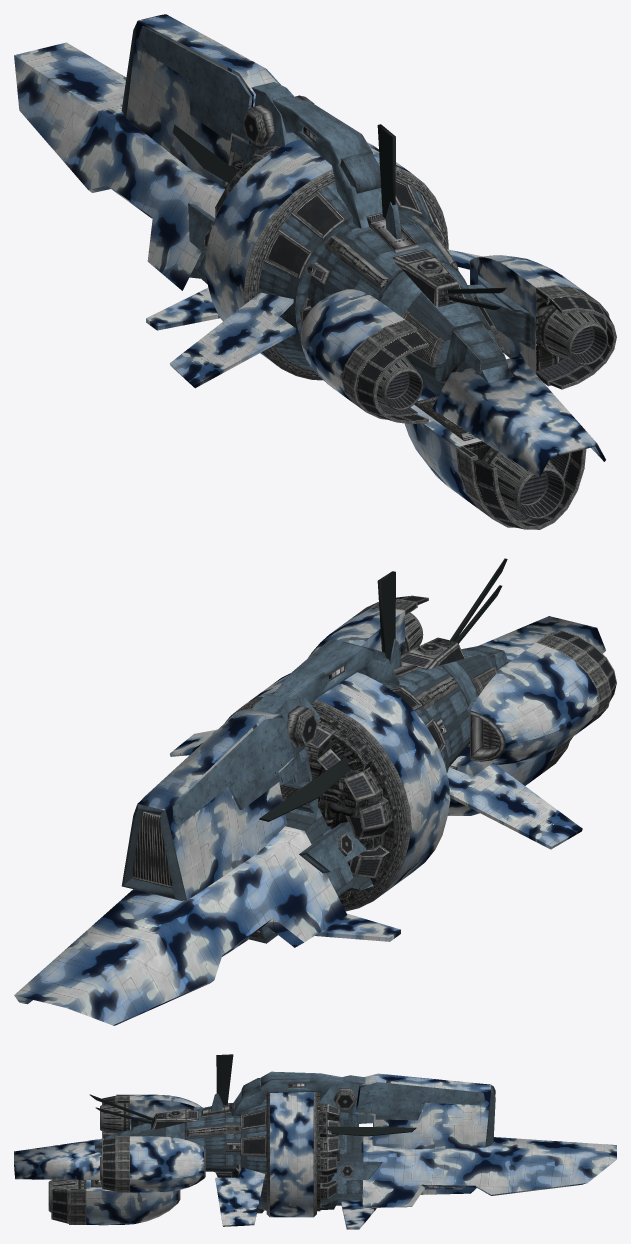
File: CX-4SV Trident.fbx
3 renders of one model, top to bottom at view 1: azimuth 30°, elevation 25°; view 2: azimuth 150°, elevation 25°; view 3: azimuth 270°, elevation 25°, orthographic. The views are drawn at different scales.
Visible parts, largest first — view 1: Hull1, Hull2, Hull3; view 2: Hull1, Hull2, Hull3; view 3: Hull1, Hull3, Hull2.
Boxes of the visible parts, x1,y1,x2,y2 form: Hull1: (14,14,605,507); Hull2: (172,95,616,529); Hull3: (121,14,534,395); Hull1: (14,609,605,1025); Hull2: (131,558,616,911); Hull3: (121,639,511,943); Hull1: (14,1073,616,1229); Hull3: (95,1071,495,1210); Hull2: (48,1054,416,1224).
Size of the model in its own units: 448 by 327 by 1064.
4 materials, 4 textured.
